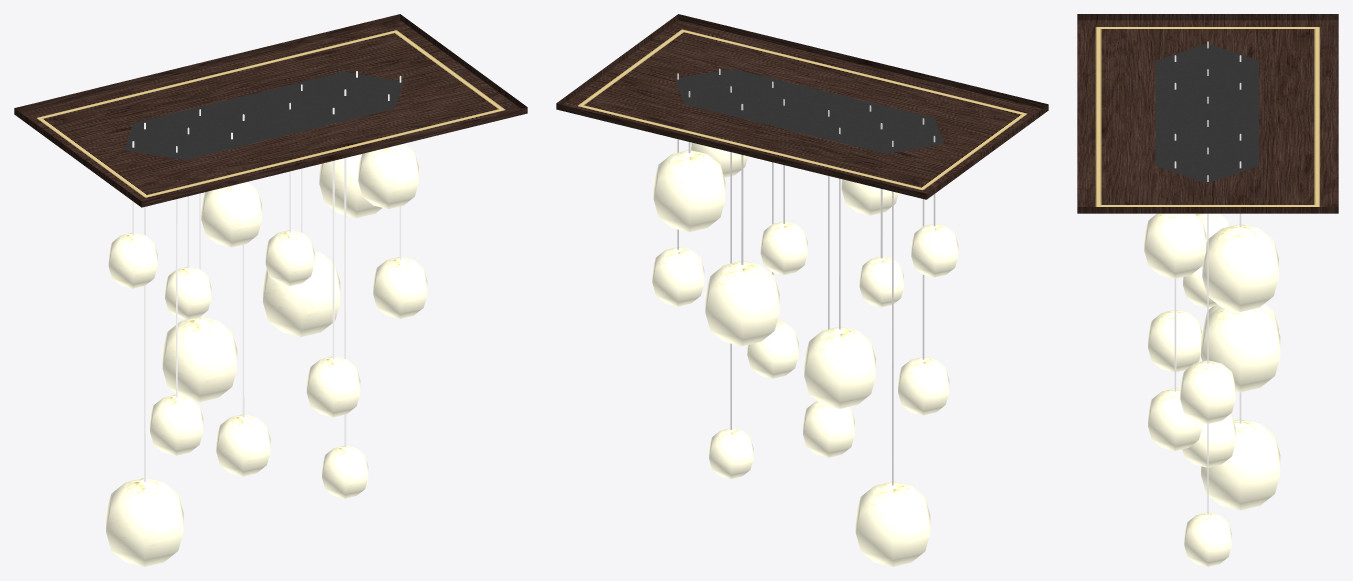
The model's file is Light_Hall_01.glb.
3 renders of one model, left to right at view 1: azimuth 30°, elevation 25°; view 2: azimuth 150°, elevation 25°; view 3: azimuth 270°, elevation 25°, orthographic. The views are drawn at different scales.
Visible parts, largest first — view 1: Light_Hall_01, Light_Hall_01_Hang6, Light_Hall_01_Hang7, Light_Hall_01_Hang12, Light_Hall_01_Hang11, Light_Hall_01_Hang2, Light_Hall_01_Hang13, Light_Hall_01_Hang4, Light_Hall_01_Hang5, Light_Hall_01_Hang8, Light_Hall_01_Hang9, Light_Hall_01_Hang14 (+3 smaller); view 2: Light_Hall_01, Light_Hall_01_Hang6, Light_Hall_01_Hang12, Light_Hall_01_Hang7, Light_Hall_01_Hang10, Light_Hall_01_Hang5, Light_Hall_01_Hang2, Light_Hall_01_Hang8, Light_Hall_01_Hang9, Light_Hall_01_Hang14, Light_Hall_01_Hang11, Light_Hall_01_Hang3 (+3 smaller); view 3: Light_Hall_01, Light_Hall_01_Hang10, Light_Hall_01_Hang12, Light_Hall_01_Hang6, Light_Hall_01_Hang13, Light_Hall_01_Hang8, Light_Hall_01_Hang5, Light_Hall_01_Hang11, Light_Hall_01_Hang9, Light_Hall_01_Hang2, Light_Hall_01_Hang14, Light_Hall_01_Hang1.
Part boxes in pixels (x1=…): Light_Hall_01: x1=14, y1=14, x2=527, y2=207; Light_Hall_01_Hang6: x1=106, y1=122, x2=183, y2=566; Light_Hall_01_Hang7: x1=162, y1=109, x2=237, y2=402; Light_Hall_01_Hang12: x1=263, y1=84, x2=340, y2=336; Light_Hall_01_Hang11: x1=306, y1=107, x2=360, y2=417; Light_Hall_01_Hang2: x1=216, y1=114, x2=270, y2=476; Light_Hall_01_Hang13: x1=358, y1=94, x2=418, y2=209; Light_Hall_01_Hang4: x1=201, y1=132, x2=261, y2=247; Light_Hall_01_Hang5: x1=150, y1=146, x2=203, y2=455; Light_Hall_01_Hang8: x1=373, y1=76, x2=427, y2=318; Light_Hall_01_Hang9: x1=322, y1=89, x2=368, y2=498; Light_Hall_01_Hang14: x1=265, y1=102, x2=314, y2=285; Light_Hall_01: x1=556, y1=14, x2=1048, y2=199; Light_Hall_01_Hang6: x1=855, y1=140, x2=930, y2=566; Light_Hall_01_Hang12: x1=705, y1=104, x2=779, y2=346; Light_Hall_01_Hang7: x1=804, y1=127, x2=875, y2=408; Light_Hall_01_Hang10: x1=653, y1=91, x2=725, y2=232; Light_Hall_01_Hang5: x1=898, y1=118, x2=949, y2=415; Light_Hall_01_Hang2: x1=803, y1=110, x2=854, y2=457; Light_Hall_01_Hang8: x1=652, y1=73, x2=704, y2=306; Light_Hall_01_Hang9: x1=709, y1=86, x2=753, y2=478; Light_Hall_01_Hang14: x1=760, y1=99, x2=807, y2=275; Light_Hall_01_Hang11: x1=747, y1=81, x2=798, y2=378; Light_Hall_01_Hang3: x1=911, y1=136, x2=958, y2=277; Light_Hall_01: x1=1077, y1=14, x2=1338, y2=213; Light_Hall_01_Hang10: x1=1202, y1=161, x2=1278, y2=311; Light_Hall_01_Hang12: x1=1201, y1=133, x2=1280, y2=392; Light_Hall_01_Hang6: x1=1201, y1=55, x2=1280, y2=510; Light_Hall_01_Hang13: x1=1144, y1=161, x2=1206, y2=278; Light_Hall_01_Hang8: x1=1180, y1=175, x2=1235, y2=423; Light_Hall_01_Hang5: x1=1148, y1=55, x2=1201, y2=372; Light_Hall_01_Hang11: x1=1148, y1=133, x2=1202, y2=450; Light_Hall_01_Hang9: x1=1184, y1=147, x2=1231, y2=566; Light_Hall_01_Hang2: x1=1182, y1=96, x2=1235, y2=467; Light_Hall_01_Hang14: x1=1183, y1=120, x2=1218, y2=307; Light_Hall_01_Hang1: x1=1195, y1=69, x2=1229, y2=242.
Bounding box in the file's own units: 1.82 × 1.98 × 1.04.
Materials: 2 (2 with a texture image).
